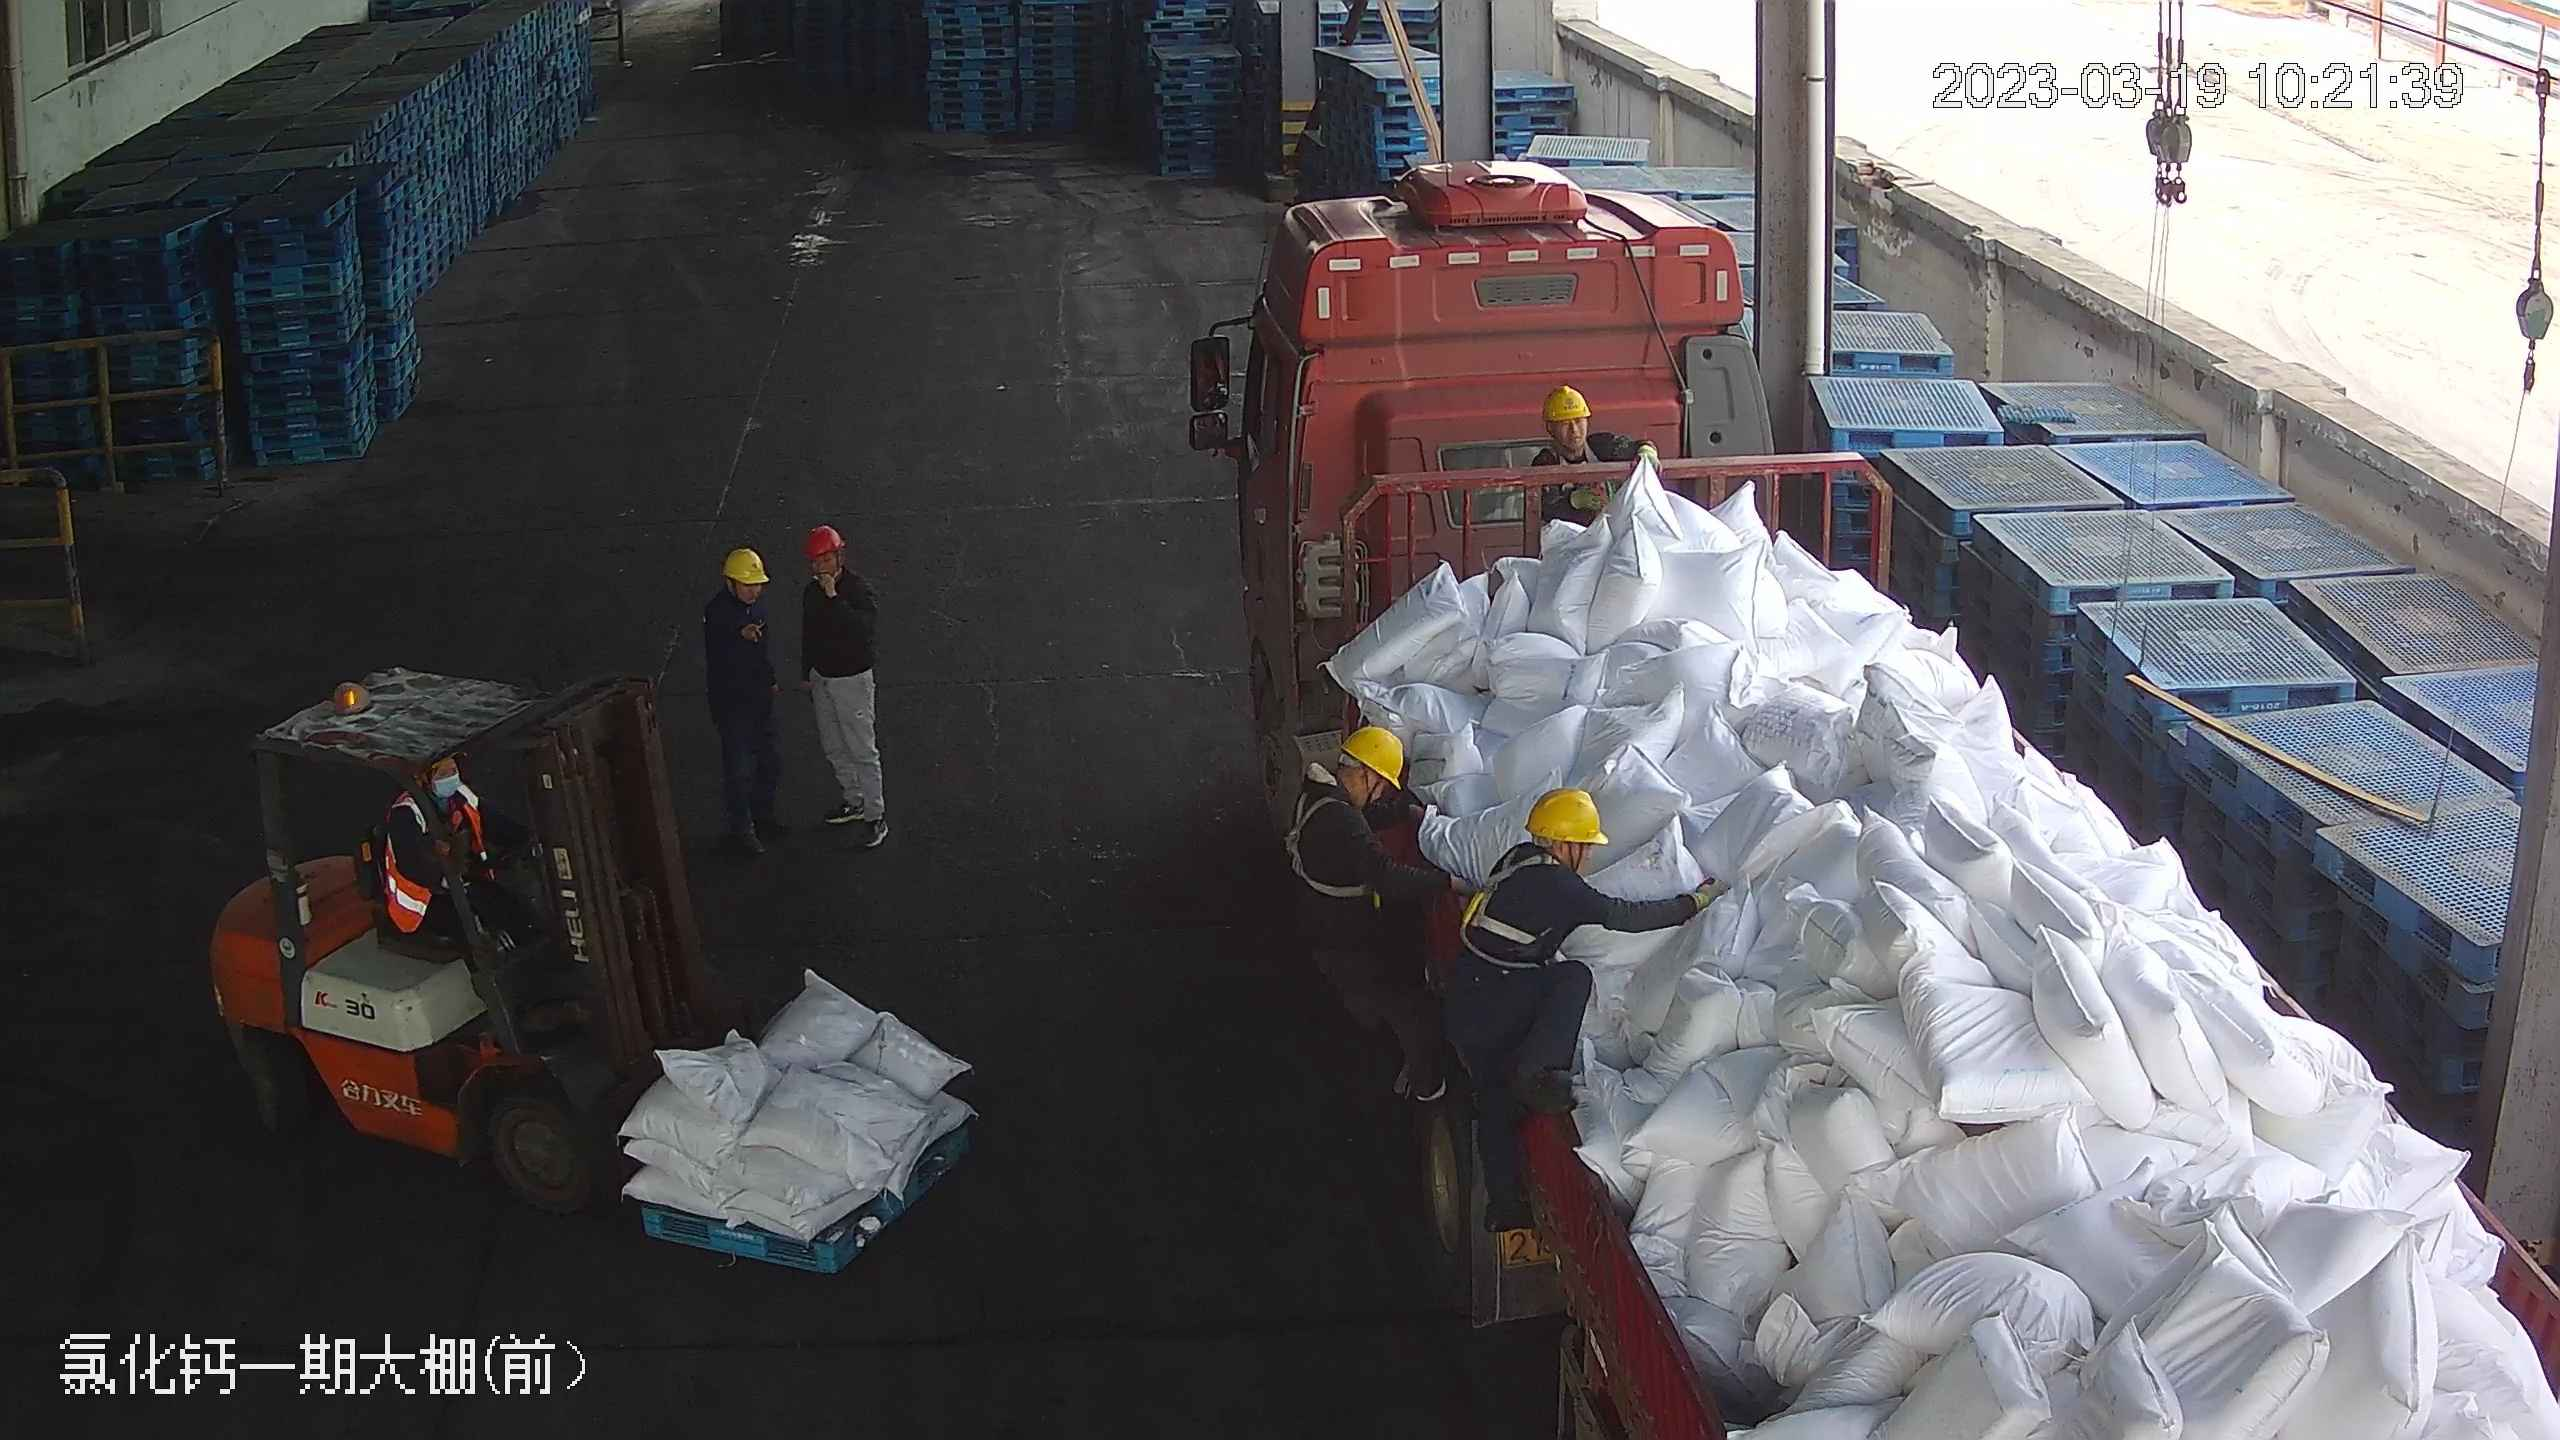belt: (1461, 844, 1561, 955), (1284, 780, 1355, 895), (1546, 435, 1604, 473)
head: (1482, 783, 1614, 940), (1290, 722, 1420, 868), (1523, 383, 1646, 487), (793, 523, 878, 621), (701, 544, 778, 651)
helmet: (1523, 786, 1606, 843), (1337, 722, 1407, 788), (1540, 380, 1592, 419), (719, 545, 770, 584), (800, 522, 848, 558)
people: (1442, 786, 1712, 1267), (1284, 726, 1468, 1112), (698, 541, 808, 862), (788, 522, 893, 850)
truck: (1206, 159, 2472, 1440)
